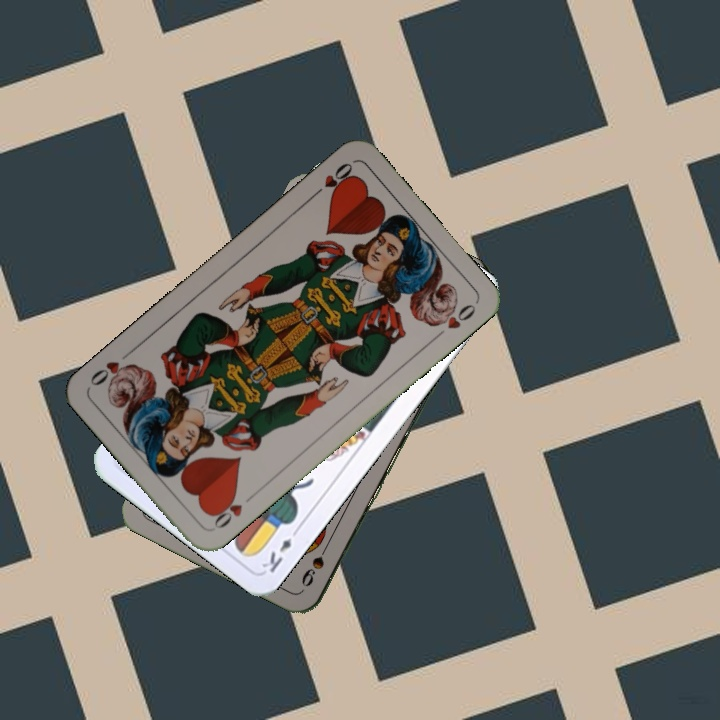EK: (257, 523, 303, 576)
HO: (306, 158, 357, 201), (207, 489, 257, 532)
S9: (299, 536, 333, 590)
